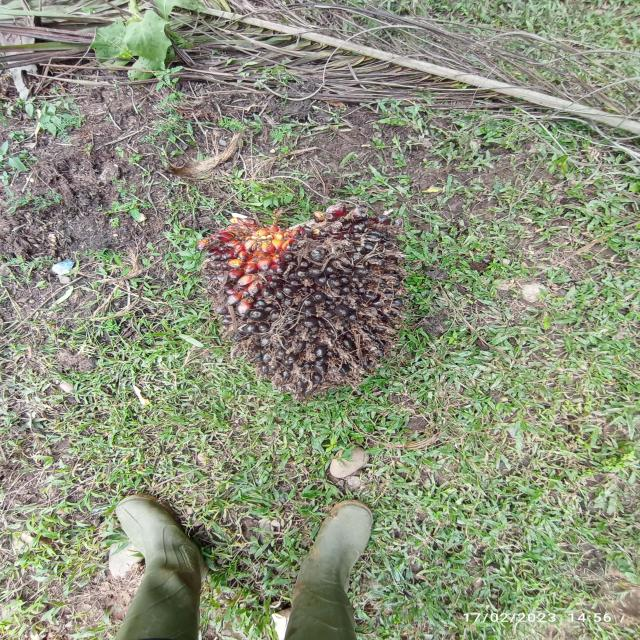fraksi 00: (186, 191, 444, 428)
